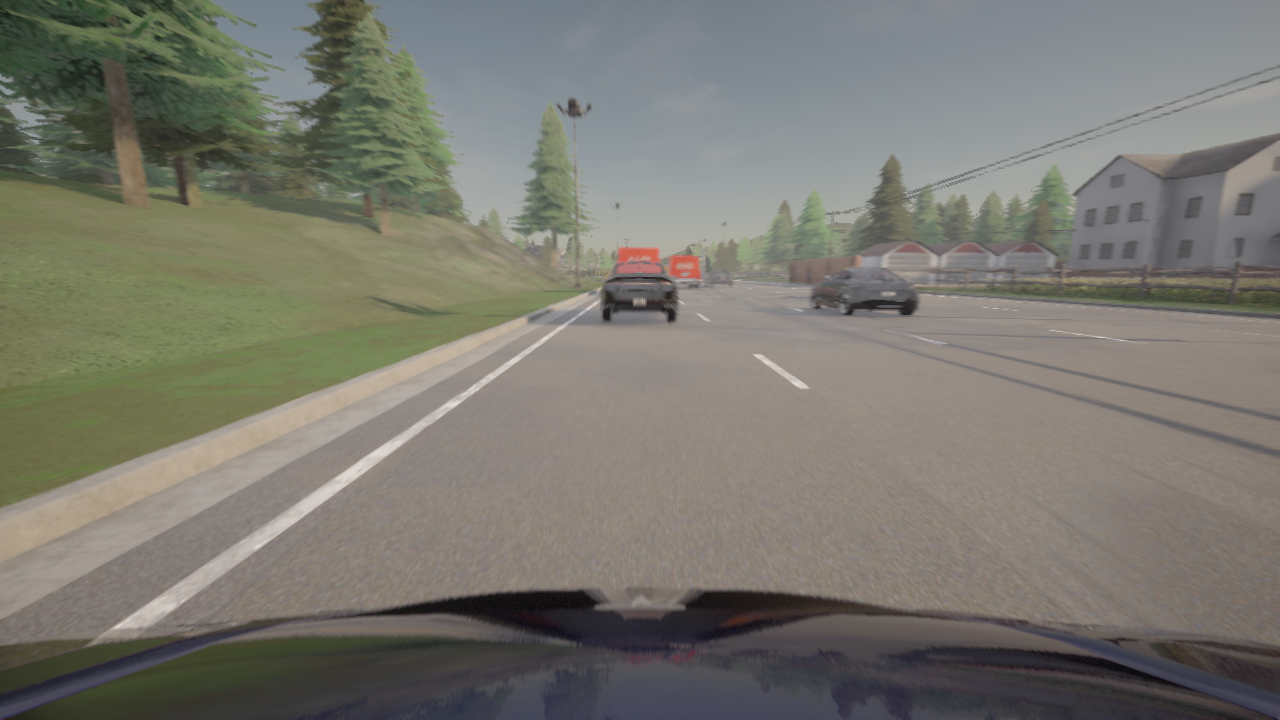cyclist: (0, 588, 1279, 719), (810, 267, 918, 315), (601, 261, 677, 321), (666, 256, 701, 287), (619, 247, 659, 261), (705, 271, 732, 286)
